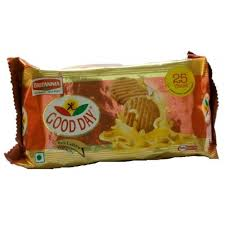gooday-medium: (9, 59, 218, 157)
